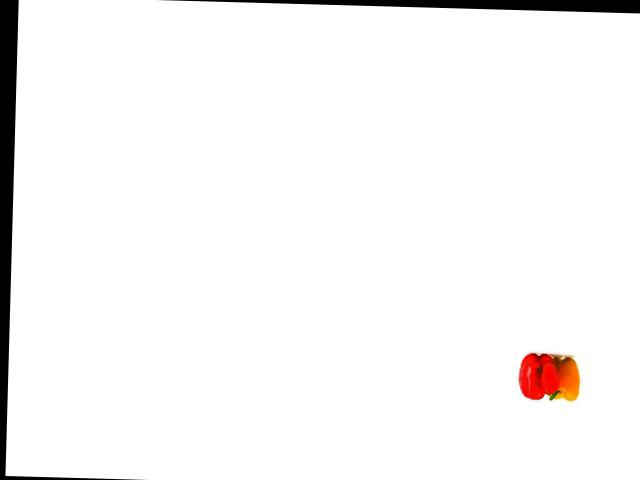bell_pepper: (543, 353, 581, 399)
